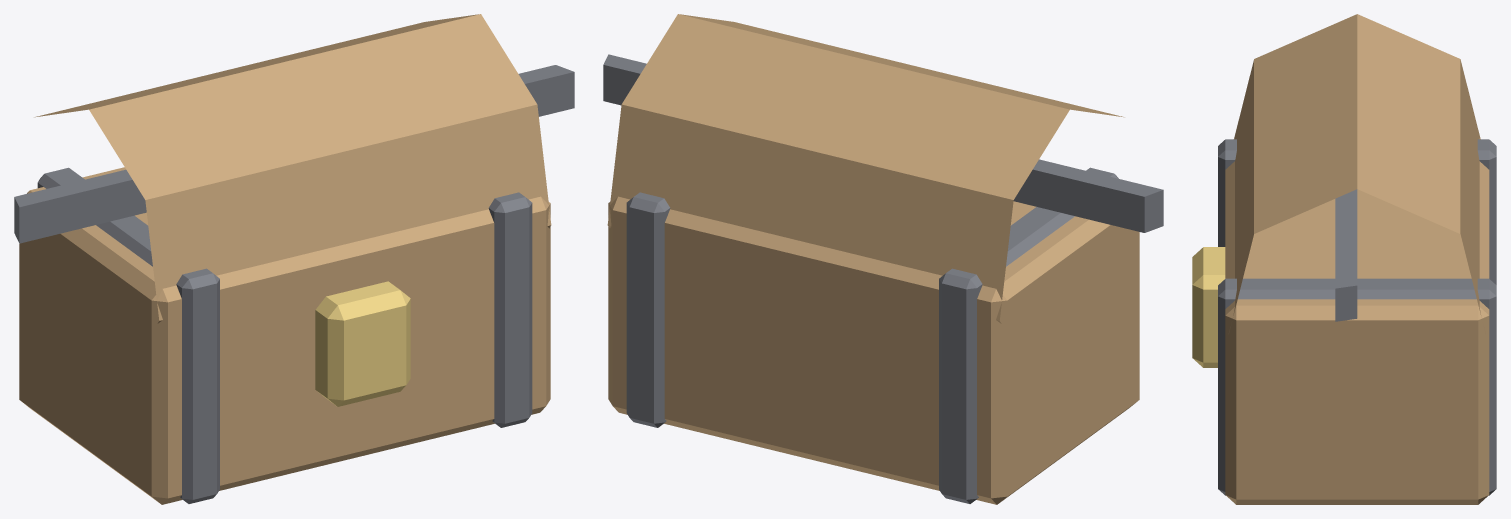
Rendered from treasure-chest.glb.
3 renders of one model, left to right at view 1: azimuth 30°, elevation 25°; view 2: azimuth 150°, elevation 25°; view 3: azimuth 270°, elevation 25°, orthographic. The views are drawn at different scales.
Parts seen in each view (by area): view 1: treasure-chest, lid/wood, lid/iron; view 2: treasure-chest, lid/wood, lid/iron; view 3: treasure-chest, lid/wood, lid/iron.
Boxes of the visible parts, x1=… form: treasure-chest: x1=19, y1=167, x2=550, y2=504; lid/wood: x1=34, y1=14, x2=551, y2=323; lid/iron: x1=14, y1=65, x2=574, y2=243; treasure-chest: x1=608, y1=167, x2=1139, y2=504; lid/wood: x1=607, y1=14, x2=1124, y2=323; lid/iron: x1=603, y1=54, x2=1163, y2=232; treasure-chest: x1=1192, y1=138, x2=1496, y2=504; lid/wood: x1=1228, y1=14, x2=1485, y2=334; lid/iron: x1=1335, y1=189, x2=1357, y2=321.
Bounding box in the file's own units: 1.6 × 0.9601 × 0.83.
